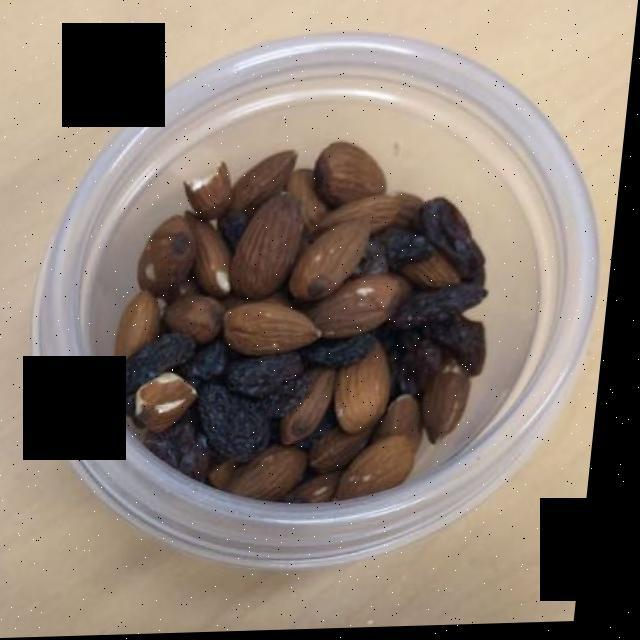raisins: (119, 192, 500, 479)
